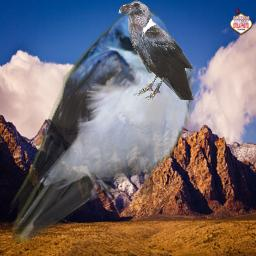Crow: (118, 0, 194, 100)
Swallow: (5, 8, 194, 243)
